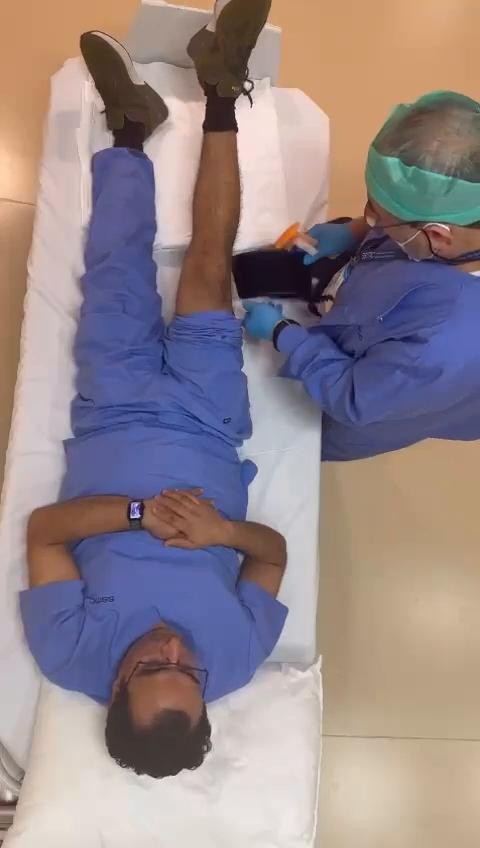patient: (20, 0, 287, 776)
tourniquet: (232, 248, 311, 299)
